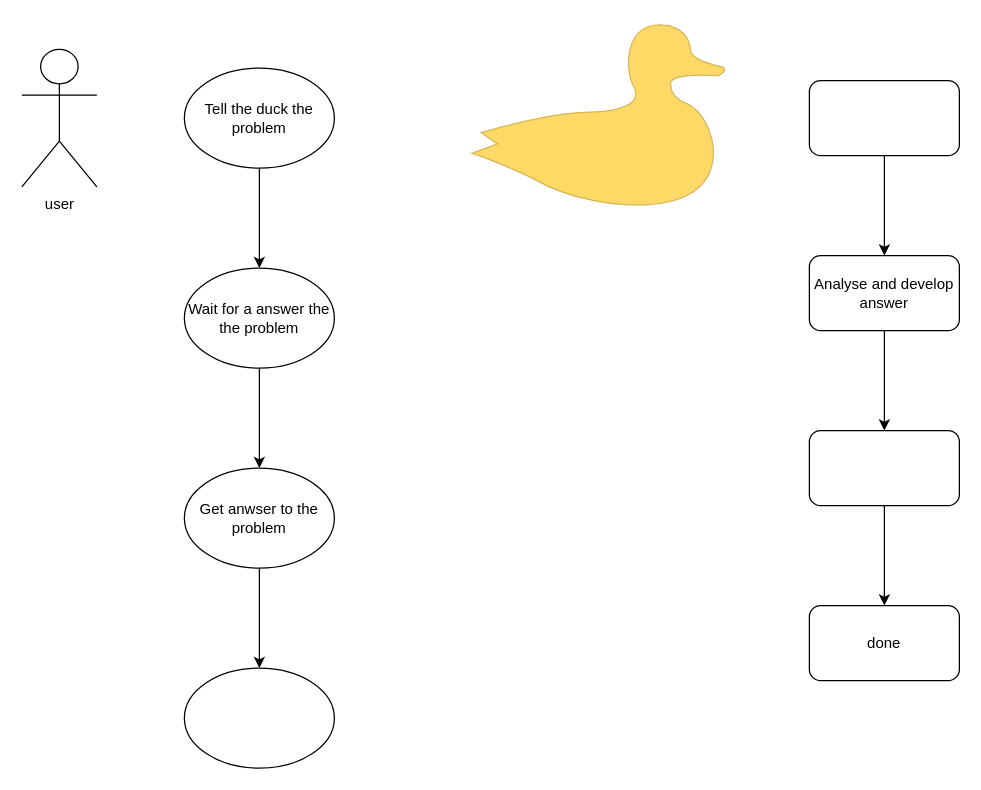
Some shapes in this 981 by 790 pixel diagram are drawn without their labels. The box of each missing label's shape, as (x1, y1, x2, y2) in pixels:
Be told problem: (808, 79, 959, 156)
Finish: (183, 667, 334, 768)
give answer: (808, 429, 959, 506)
